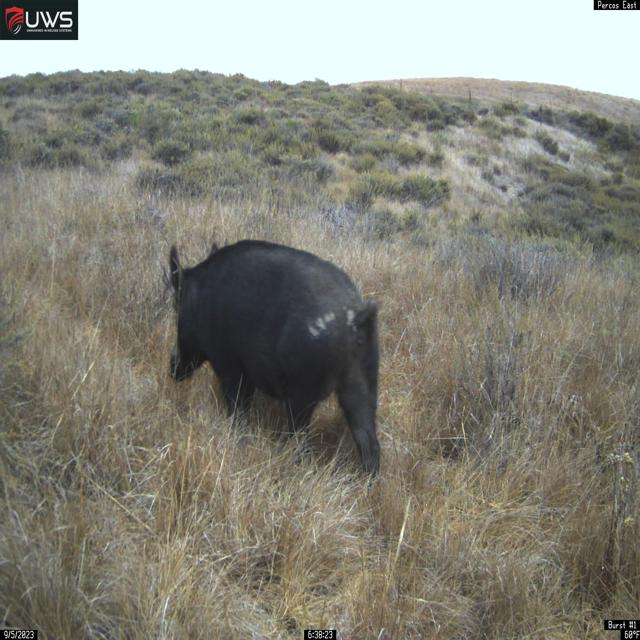pig: (167, 238, 382, 490)
